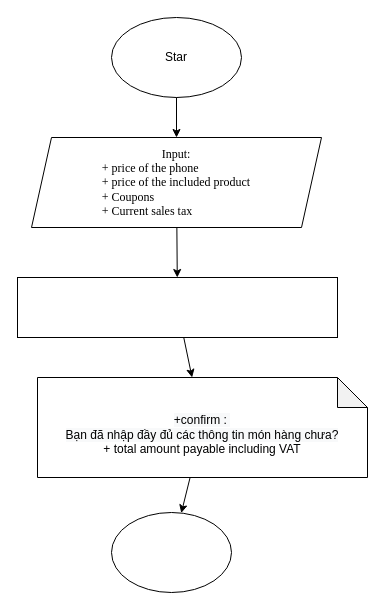
The diagram is 385 pixels wide and 610 high, and some of its shapes have lost their labels. Here are the shapes that lost their labels. From the top down, the centre of each, then its label:
At pixel 177 307: "+ calculate total tax + total payable".
At pixel 171 552: "END".
